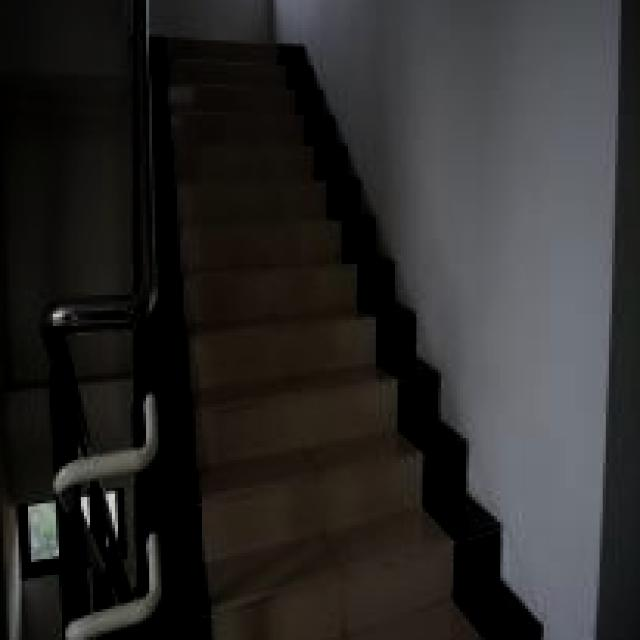upstair: (156, 79, 374, 622)
